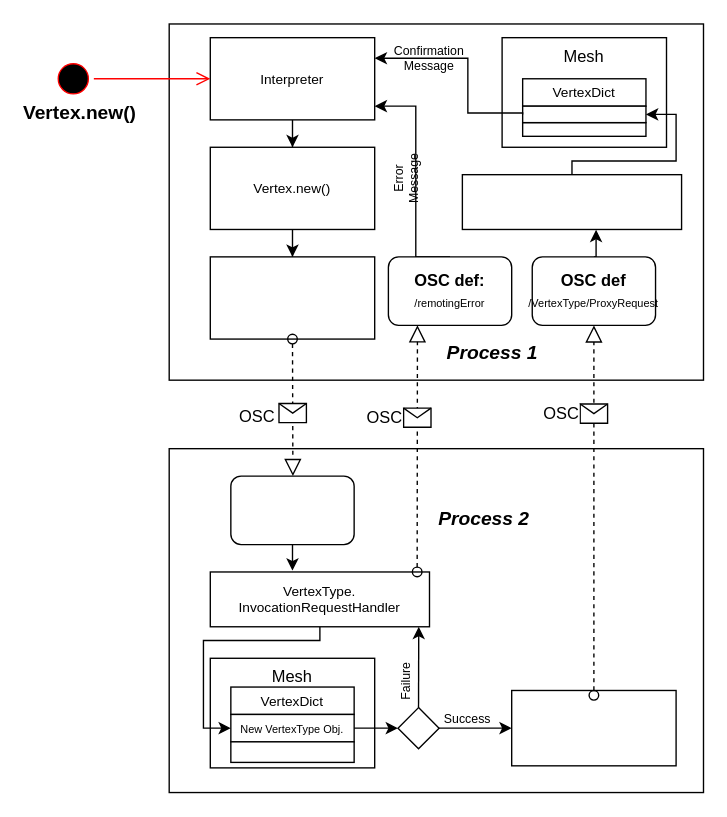
Image size: 727x817. Some labels were removed from this diagram. Here are the shapes that lost their labels. From the top down, the centre of each, then its label:
At point (583, 114): "New VertexTypeProxy.".
At point (571, 201): "VertexType. ProxyRequestHandler".
At point (292, 297): "VertexType. invocationRequestor".
At point (291, 510): "OSC def: /VertexType/invocation".
At point (593, 727): "VertexType. proxyRequestor".
